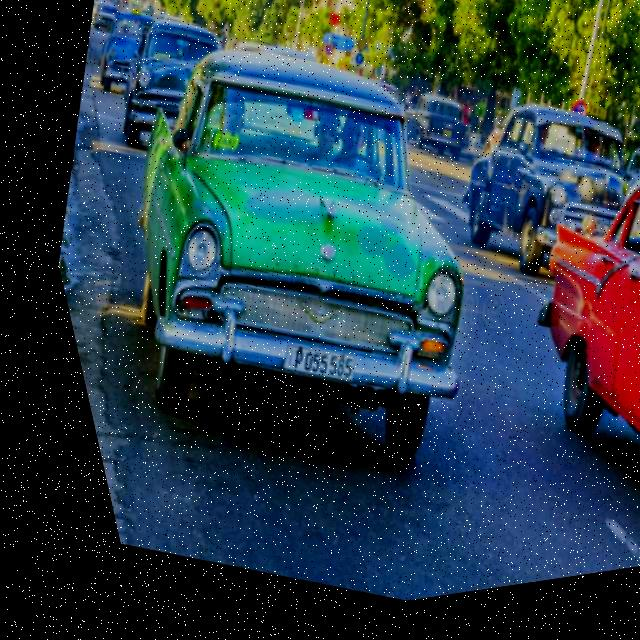license_plate: (256, 334, 347, 400)
